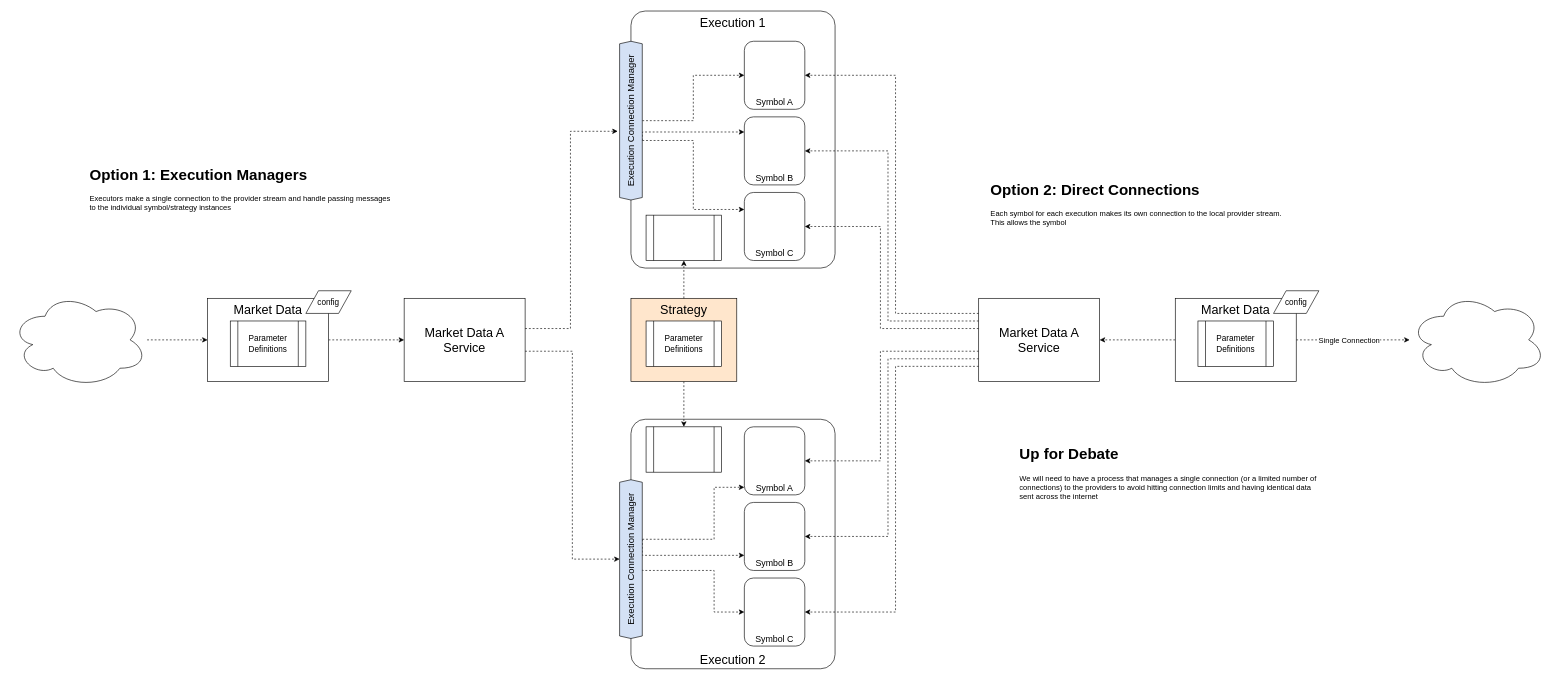
Some shapes in this 1557 by 680 pixel diagram are drawn without their labels. The centre of each missing label's shape, as x and y in pixels:
"Broker 1 Provider" belongs at pixel 78 339.
"Execution 1 Specific Parameter Settings" belongs at pixel 683 238.
"Execution 2 Specific Parameter Settings" belongs at pixel 683 449.
"Market Data A Provider" belongs at pixel 1477 339.
